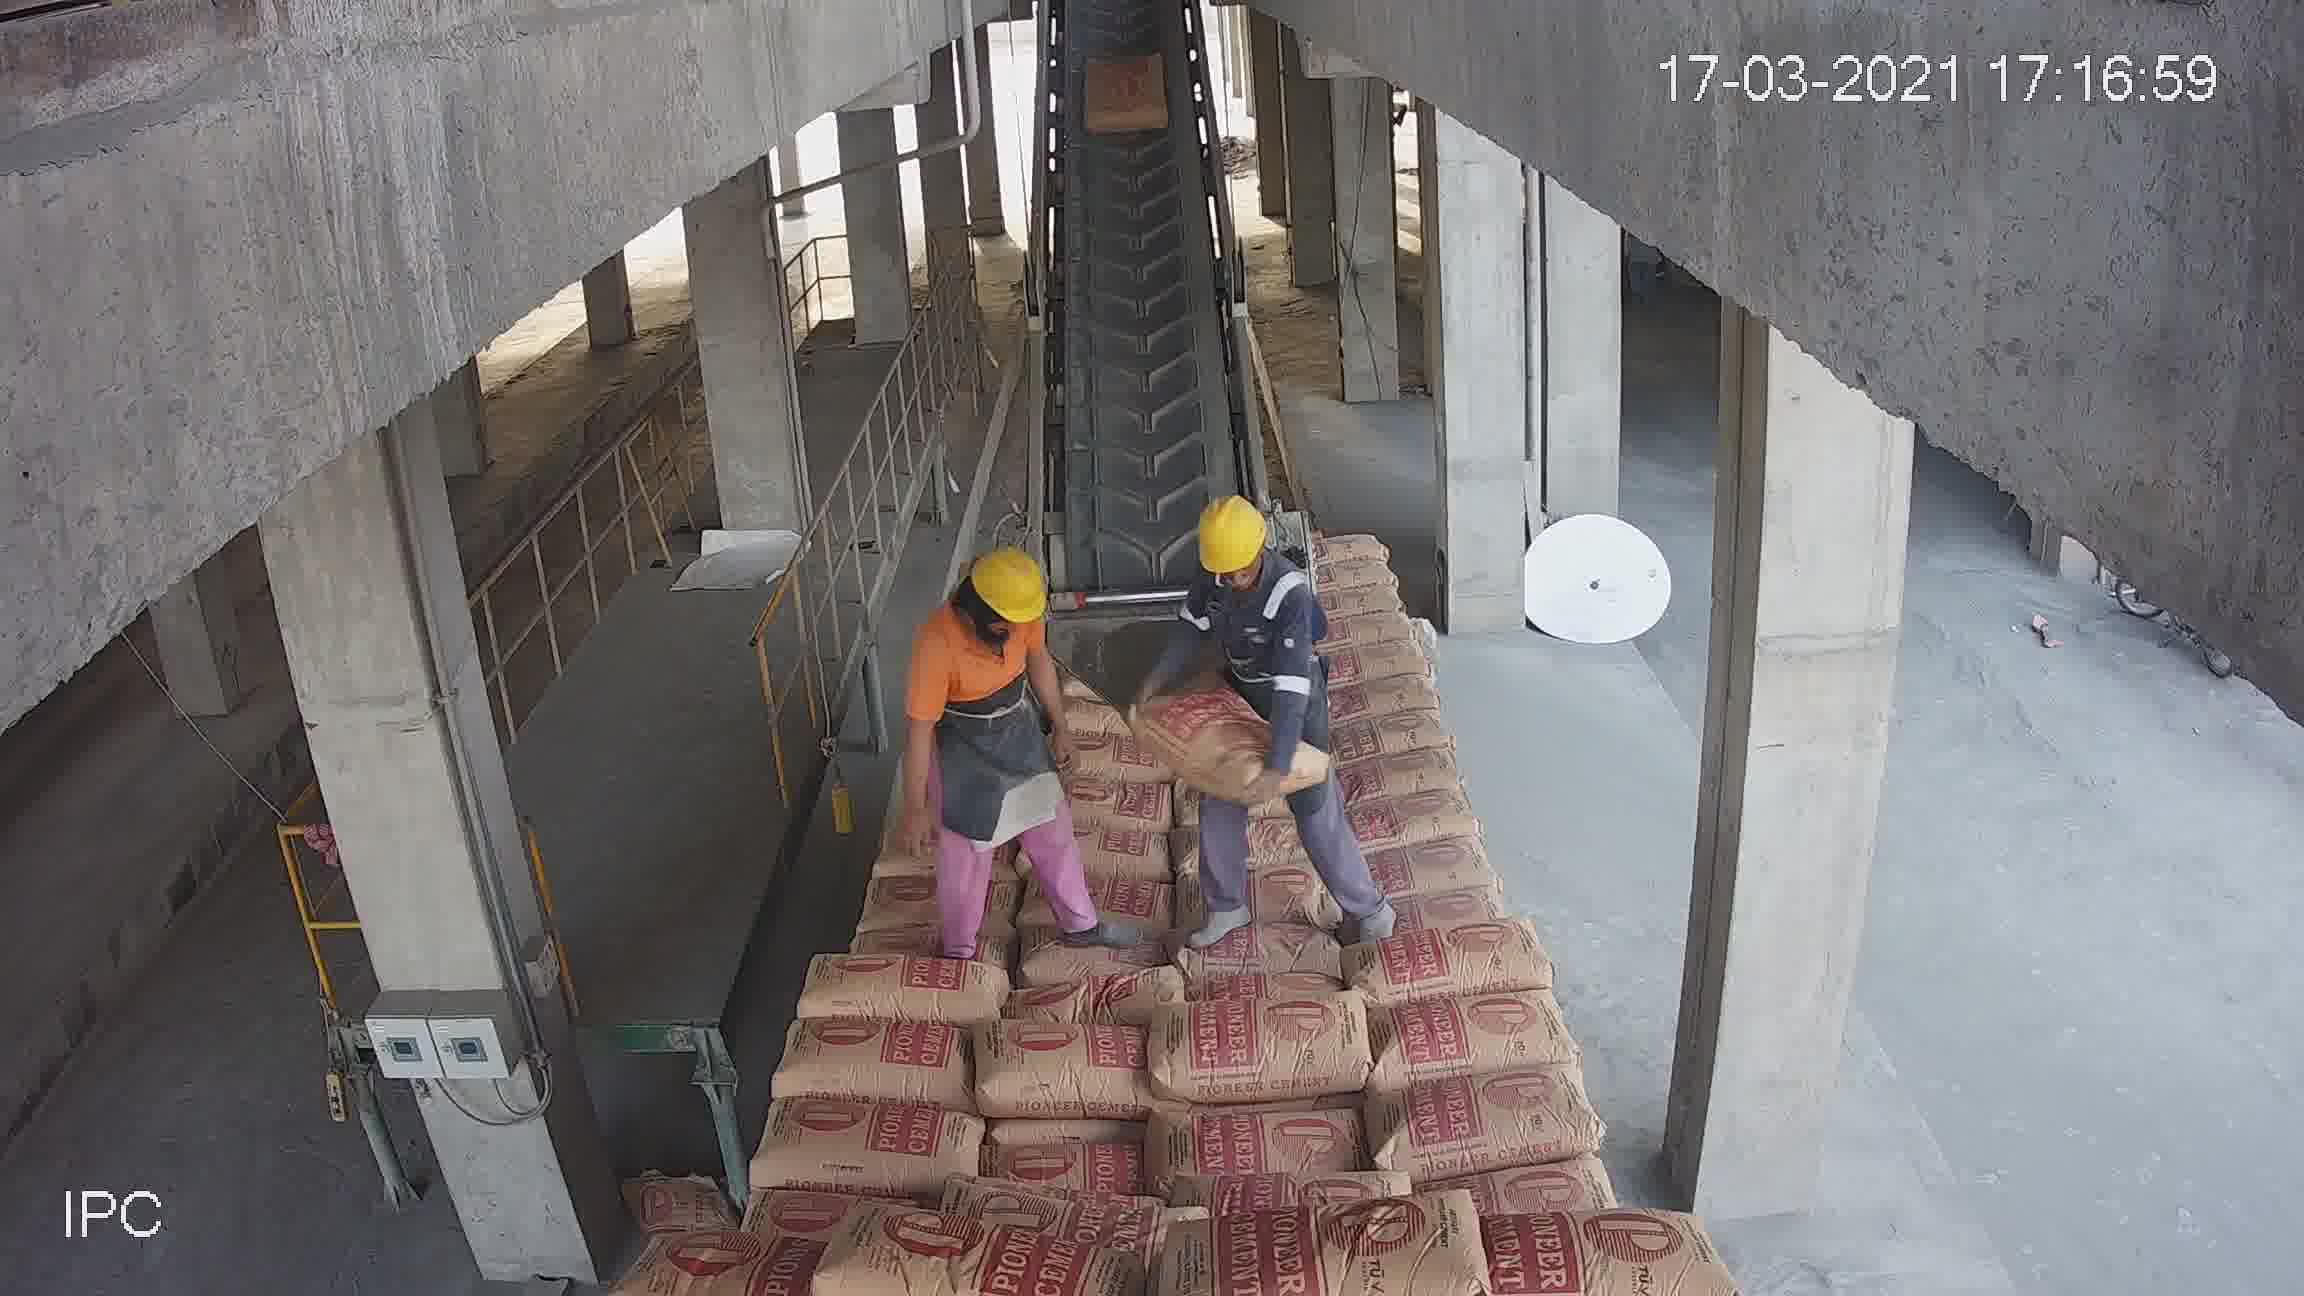bag: (1082, 52, 1165, 139)
bag_h: (1196, 1193, 1491, 1294), (1442, 1203, 1707, 1296), (815, 1215, 1119, 1296), (748, 1100, 994, 1196), (1380, 1079, 1590, 1192), (1165, 994, 1378, 1101), (1143, 680, 1332, 790), (976, 1014, 1152, 1131), (1157, 1108, 1370, 1198), (764, 1021, 980, 1108), (1367, 987, 1575, 1074), (1350, 919, 1556, 1002), (801, 948, 1003, 1022), (635, 1230, 843, 1296), (999, 961, 1180, 1029), (989, 1143, 1157, 1199), (1348, 783, 1481, 851), (1366, 837, 1497, 900), (1063, 774, 1179, 845), (1055, 731, 1192, 786), (1320, 674, 1445, 726), (1329, 709, 1449, 763), (1347, 748, 1462, 804), (1076, 828, 1168, 885), (1321, 642, 1442, 685), (1321, 617, 1426, 657), (1305, 557, 1407, 597), (1317, 524, 1396, 570), (1320, 587, 1407, 628)
belt: (1022, 25, 1272, 660)
